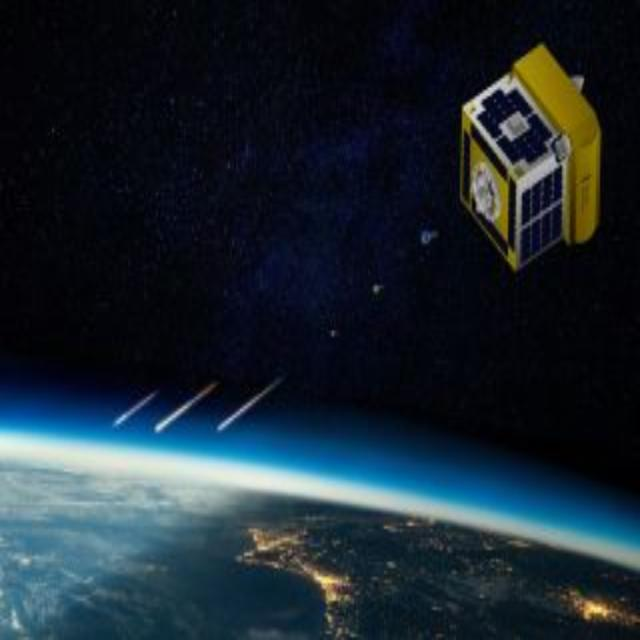satellite: (456, 30, 609, 277)
